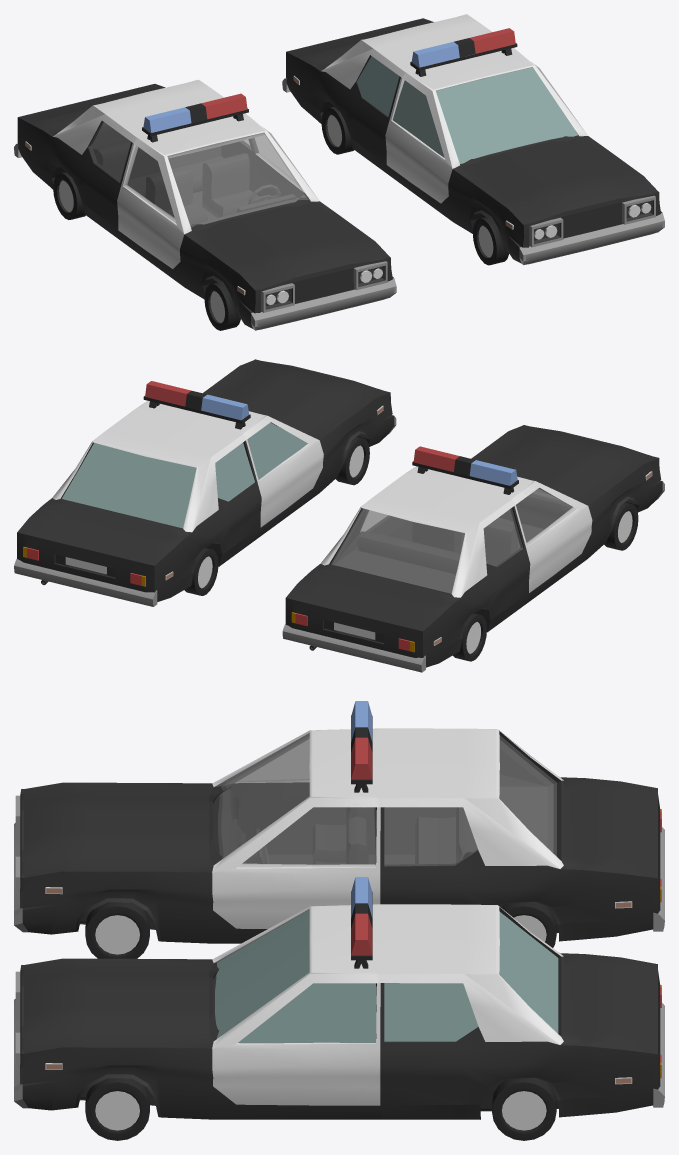
The model's file is Police_Car.fbx.
3 views of the same model, one above another, from view 1: azimuth 30°, elevation 25°; view 2: azimuth 150°, elevation 25°; view 3: azimuth 270°, elevation 25° (orthographic). The views are drawn at different scales.
Parts seen in each view (by area): view 1: PoliceCar, PoliceCar1, Glass2, Glass, polySurface45, polySurface41, polySurface39, polySurface44; view 2: PoliceCar, PoliceCar1, Glass2, Glass, polySurface45, polySurface41, polySurface39, polySurface44; view 3: PoliceCar, PoliceCar1, Glass2, Glass, polySurface40, polySurface38, polySurface42, polySurface43.
Part boxes in pixels (x1,y1,x2,y2): PoliceCar: (14,79,396,330); PoliceCar1: (282,14,664,265); Glass2: (357,56,577,163); Glass: (89,122,308,227); polySurface45: (204,282,240,330); polySurface41: (472,217,509,265); polySurface39: (321,106,353,154); polySurface44: (53,172,85,219); PoliceCar: (282,425,664,672); PoliceCar1: (14,359,396,606); Glass2: (62,422,307,528); Glass: (331,488,575,593); polySurface45: (604,502,638,550); polySurface41: (336,437,369,485); polySurface39: (184,548,218,595); polySurface44: (453,613,486,661); PoliceCar: (14,701,664,943); PoliceCar1: (14,877,664,1119); Glass2: (215,910,558,1043); Glass: (218,735,556,866); polySurface40: (492,1077,556,1140); polySurface38: (85,1078,149,1140); polySurface42: (85,902,149,958); polySurface43: (501,902,556,947).
Bounding box in the file's own units: 6.95 × 2.22 × 7.03.
